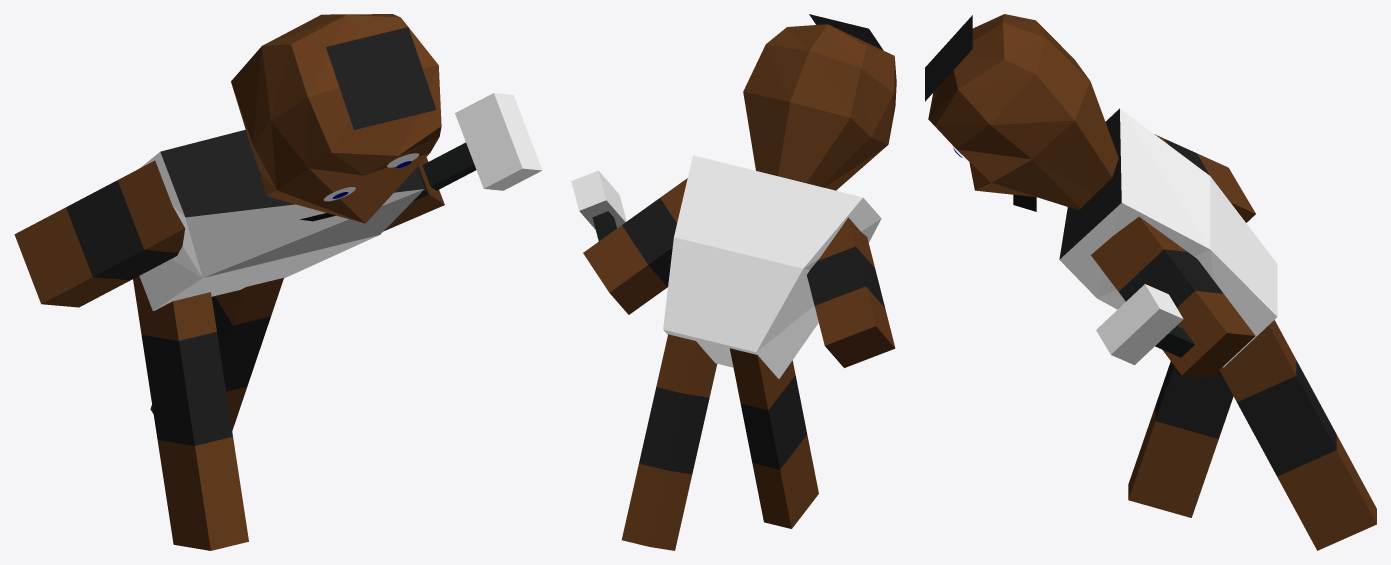
File: slave1d.obj
The picture shows the model from 3 angles, left to right: view 1: azimuth 30°, elevation 25°; view 2: azimuth 150°, elevation 25°; view 3: azimuth 270°, elevation 25°; orthographic projection. The views are drawn at different scales.
Parts seen in each view (by area): view 1: Cube, Cube.001, Cube.004, Cube.003, Plane.002, Cube.008, Cube.005, Cube.007, Cube.002; view 2: Cube.001, Cube, Cube.005, Cube.004, Cube.003, Cube.002, Cube.008, Plane.002, Cube.007; view 3: Cube, Cube.001, Cube.005, Cube.002, Cube.004, Cube.008, Plane.002, Cube.003, Cube.007.
Part boxes in pixels (x1,y1,x2,y2): Cube: (231, 14, 441, 223); Cube.001: (139, 129, 424, 310); Cube.004: (133, 276, 248, 550); Cube.003: (14, 160, 185, 307); Plane.002: (326, 27, 436, 129); Cube.008: (455, 93, 542, 190); Cube.005: (150, 278, 283, 430); Cube.007: (422, 142, 476, 190); Cube.002: (383, 157, 444, 231); Cube.001: (663, 155, 881, 378); Cube: (743, 24, 896, 190); Cube.005: (621, 334, 717, 550); Cube.004: (729, 348, 818, 528); Cube.003: (807, 217, 895, 367); Cube.002: (583, 178, 687, 314); Cube.008: (571, 170, 626, 229); Plane.002: (809, 14, 883, 50); Cube.007: (592, 211, 616, 241); Cube: (928, 14, 1118, 210); Cube.001: (1059, 108, 1277, 367); Cube.005: (1219, 320, 1376, 550); Cube.002: (1091, 216, 1255, 378); Cube.004: (1128, 361, 1233, 517); Cube.008: (1096, 284, 1183, 365); Plane.002: (925, 15, 972, 101); Cube.003: (1154, 134, 1255, 222); Cube.007: (1155, 326, 1194, 357).
Bounding box in the file's own units: 4.16 × 5.17 × 4.19.
